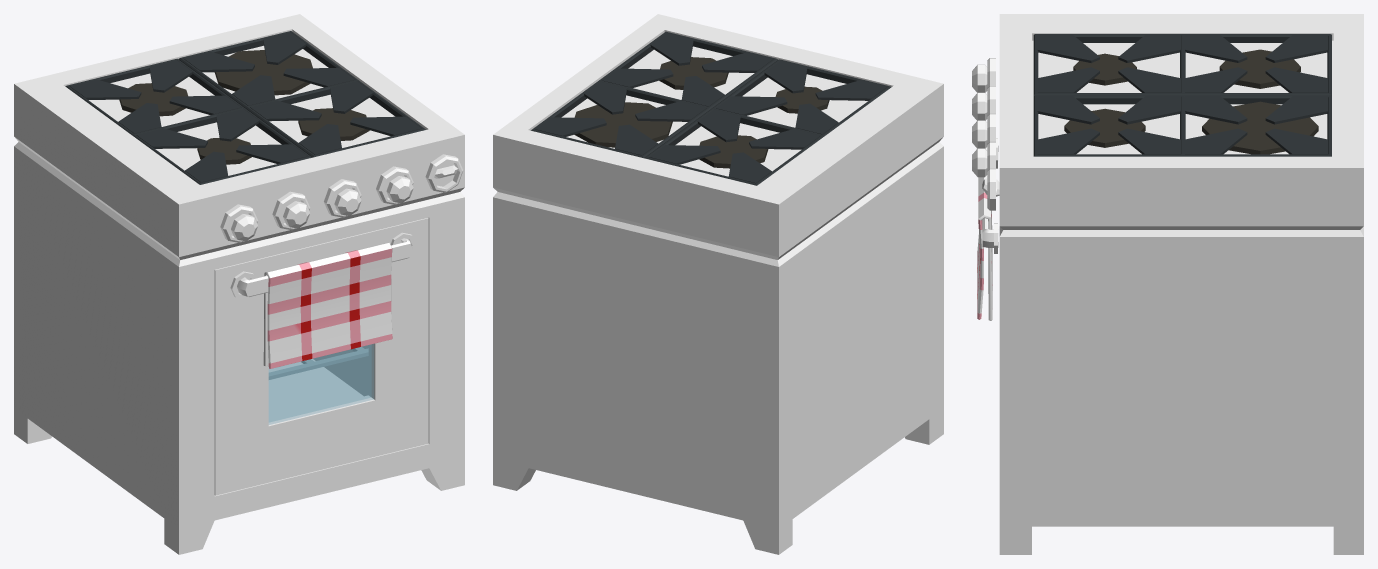
Rendered from PW_stove.fbx.
3 views of the same model, side by side, from view 1: azimuth 30°, elevation 25°; view 2: azimuth 150°, elevation 25°; view 3: azimuth 270°, elevation 25° (orthographic). The views are drawn at different scales.
Visible parts, largest first — view 1: stove, door1, black, fiber, button, polySurface51; view 2: stove, black; view 3: stove, black, button, fiber, polySurface51.
Part boxes in pixels (bbox=[...]): stove: bbox=[14, 14, 464, 554]; door1: bbox=[214, 218, 428, 495]; black: bbox=[65, 31, 425, 184]; fiber: bbox=[263, 242, 392, 368]; button: bbox=[220, 154, 463, 242]; polySurface51: bbox=[230, 232, 416, 299]; stove: bbox=[493, 14, 943, 554]; black: bbox=[531, 31, 891, 185]; stove: bbox=[999, 14, 1363, 554]; black: bbox=[1033, 34, 1331, 156]; button: bbox=[972, 58, 999, 210]; fiber: bbox=[977, 175, 992, 320]; polySurface51: bbox=[982, 138, 998, 253].
Size of the model in its own units: 119 by 140 by 128.
Materials: 3 (2 with a texture image).
